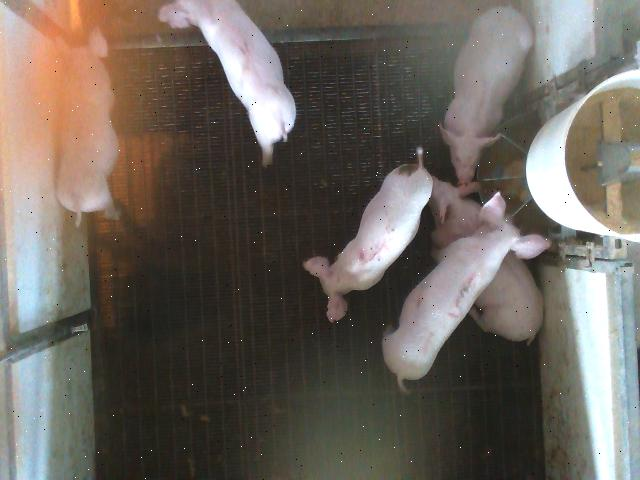pig-3: (382, 193, 550, 390)
pig-4: (56, 30, 118, 225)
pig-5: (304, 147, 432, 322)
